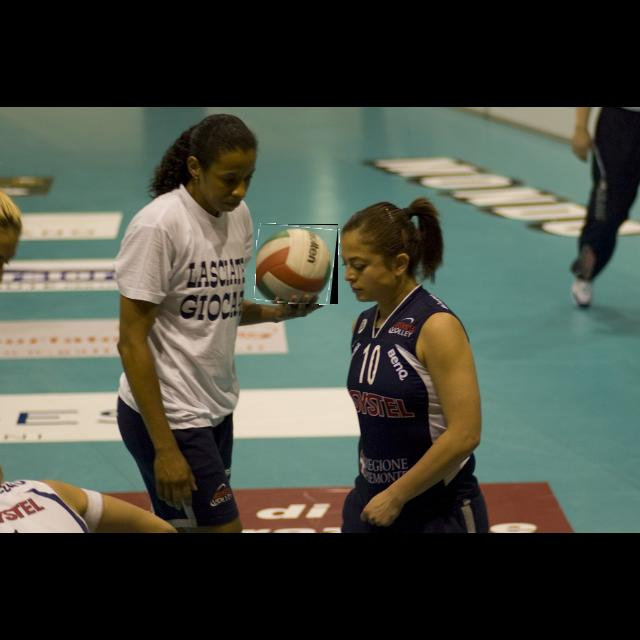Football: (256, 224, 338, 304)
